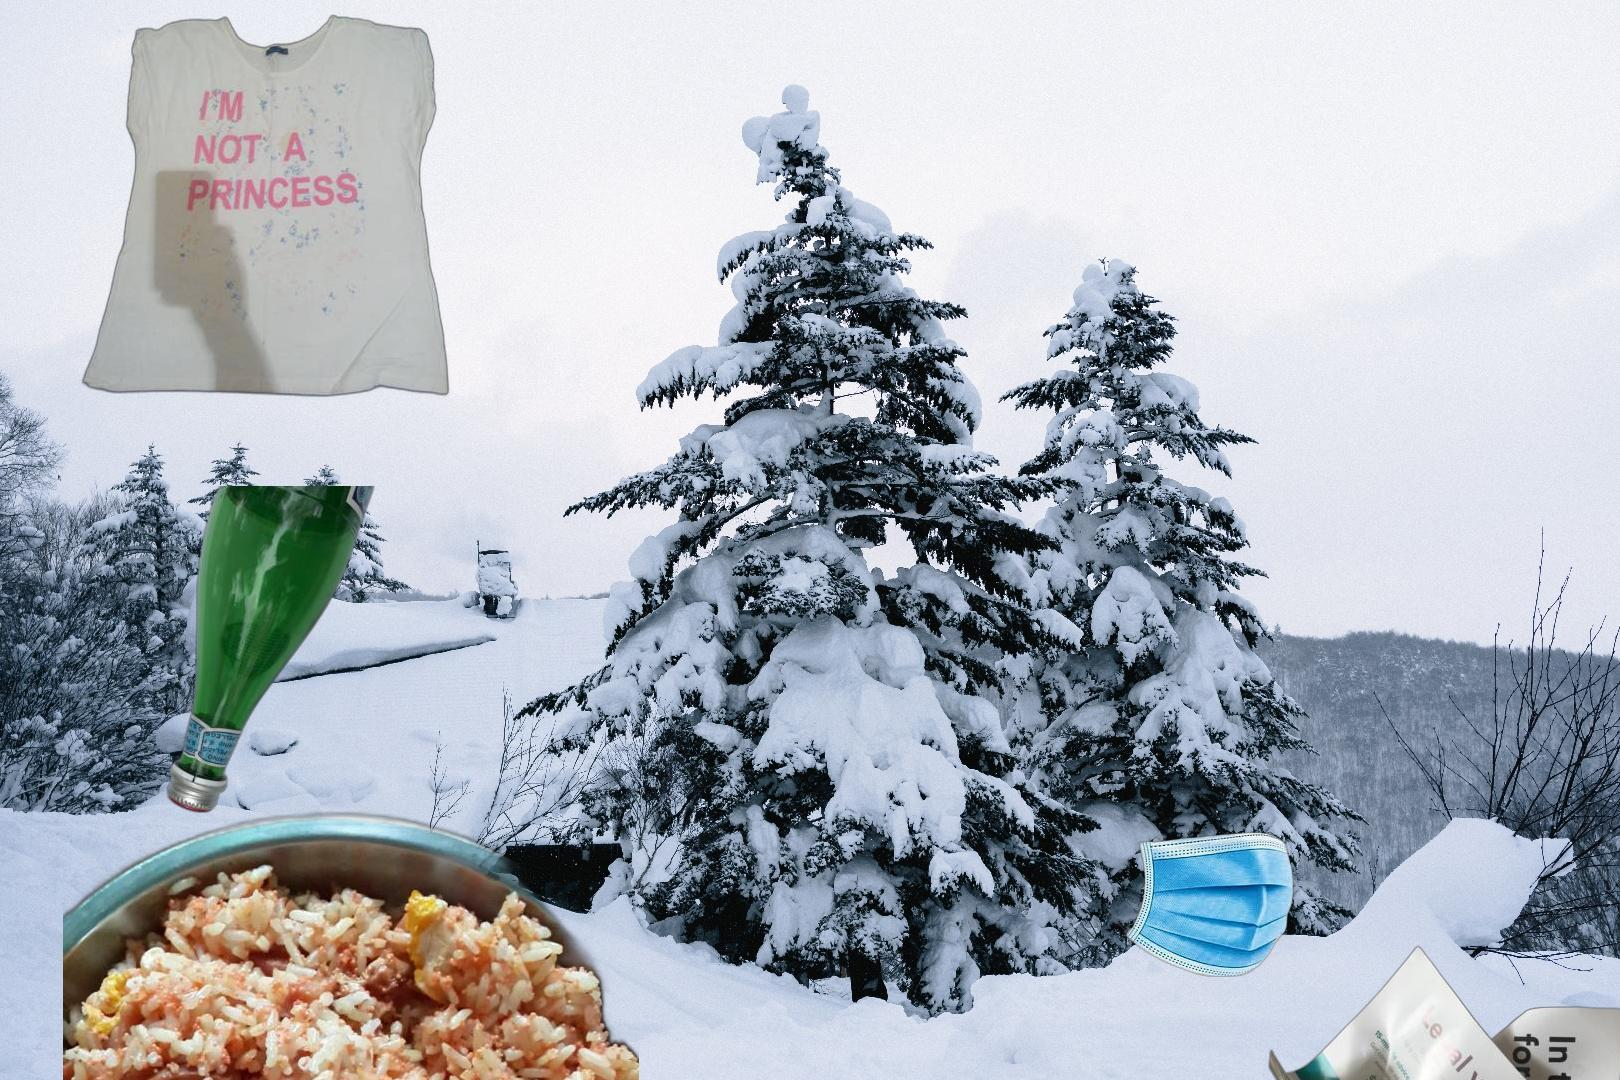biological: (63, 806, 639, 1080)
clothes: (80, 10, 452, 400)
glass: (162, 486, 378, 816)
paper: (1264, 944, 1620, 1080)
trash: (1078, 829, 1296, 980)
